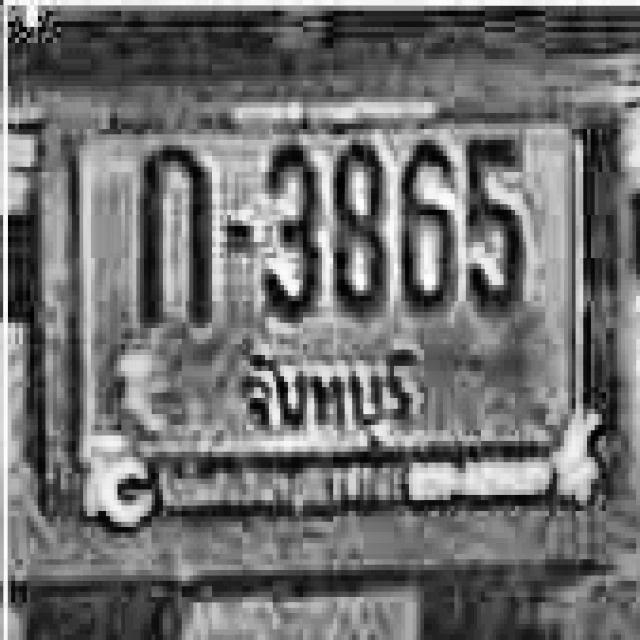license-plate: (35, 75, 640, 574)
